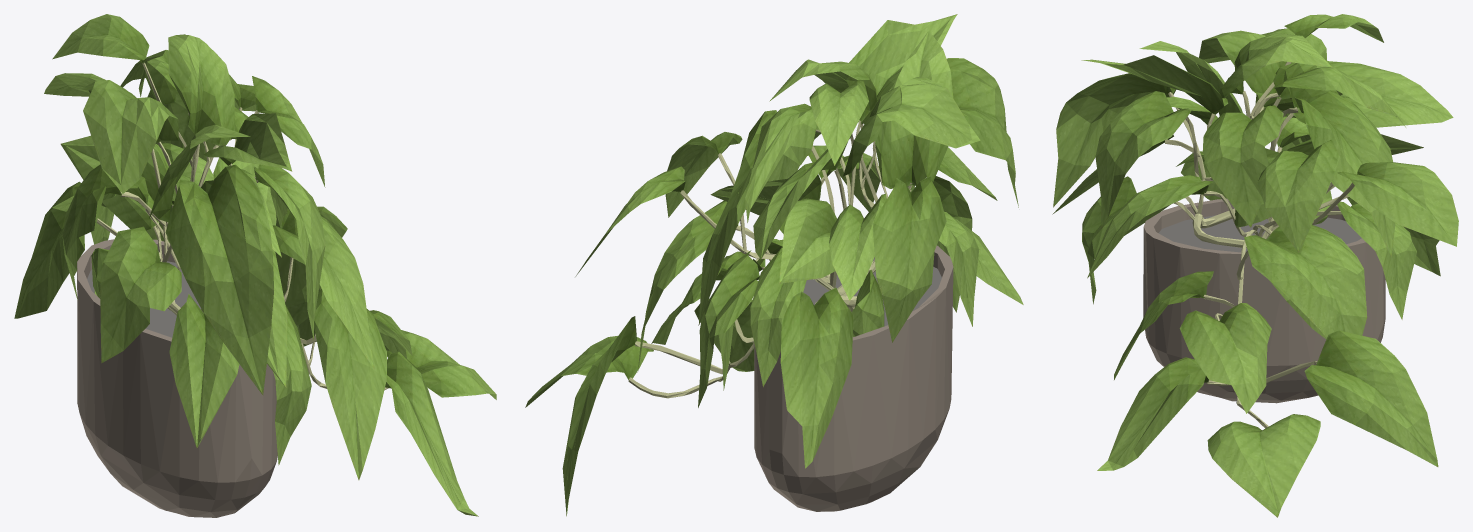
The model's file is sh-bs0-augalas.glb.
3 renders of one model, left to right at view 1: azimuth 30°, elevation 25°; view 2: azimuth 150°, elevation 25°; view 3: azimuth 270°, elevation 25°, orthographic. The views are drawn at different scales.
Visible parts, largest first — view 1: Augalas1_Untitled, Cylinder, Augalas35_Untitled.026, Grid; view 2: Augalas1_Untitled, Cylinder, Augalas35_Untitled.026, Grid; view 3: Augalas1_Untitled, Cylinder, Augalas35_Untitled.026, Grid.
Part boxes in pixels (x1,y1,x2,y2): Augalas1_Untitled: (14,14,496,516); Cylinder: (77,239,277,517); Augalas35_Untitled.026: (96,62,388,390); Grid: (87,261,201,337); Augalas1_Untitled: (525,14,1023,516); Cylinder: (754,245,953,511); Augalas35_Untitled.026: (628,120,912,398); Grid: (803,258,941,326); Augalas1_Untitled: (1052,14,1458,517); Cylinder: (1143,198,1385,403); Augalas35_Untitled.026: (1165,62,1354,428); Grid: (1159,215,1361,252).
Size of the model in its own units: 1 by 1 by 0.9968.
Materials: 4 (1 with a texture image).
